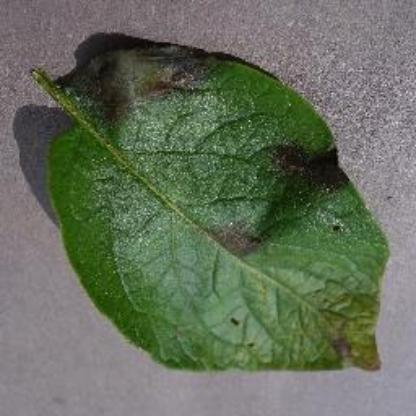Late-Blight: (19, 41, 391, 379)
